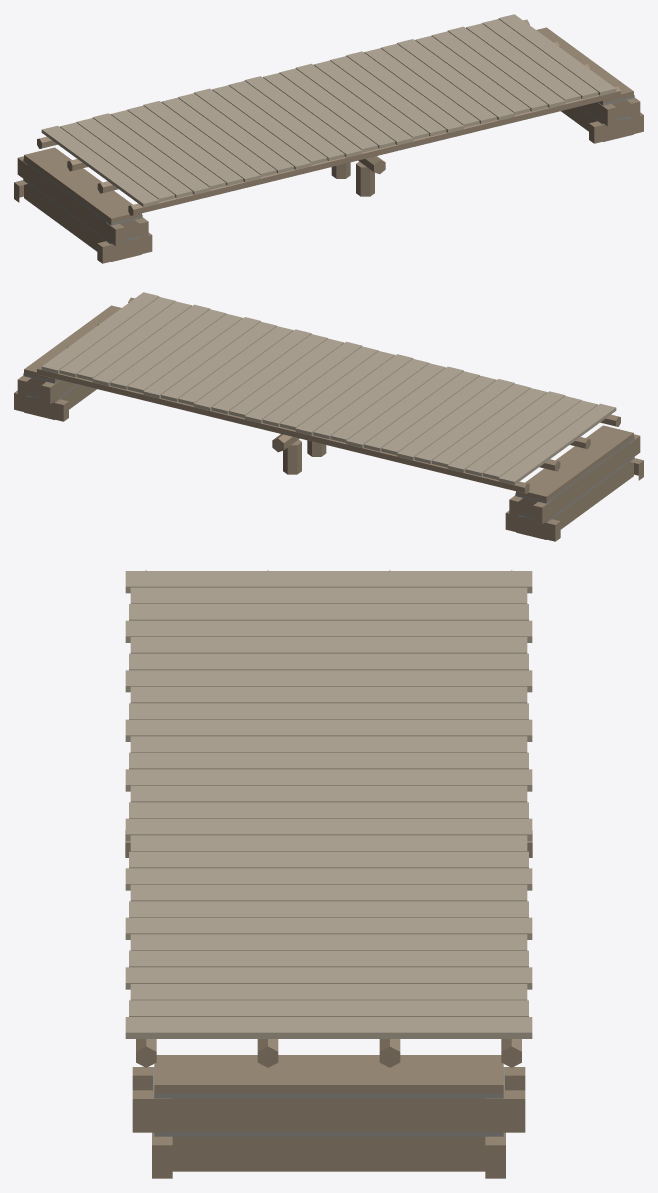
File: lasalle_slough_crossing__crossing_1835.glb
3 views of the same model, one above another, from view 1: azimuth 30°, elevation 25°; view 2: azimuth 150°, elevation 25°; view 3: azimuth 270°, elevation 25° (orthographic). The views are drawn at different scales.
Visible parts, largest first — view 1: lasalle_slough_crossing__crossing_1835; view 2: lasalle_slough_crossing__crossing_1835; view 3: lasalle_slough_crossing__crossing_1835.
Boxes of the visible parts, <box> form: lasalle_slough_crossing__crossing_1835: <box>14,14,643,263</box>; lasalle_slough_crossing__crossing_1835: <box>14,292,643,541</box>; lasalle_slough_crossing__crossing_1835: <box>125,570,532,1178</box>.
Size of the model in its own units: 13.72 by 1.39 by 4.47.
